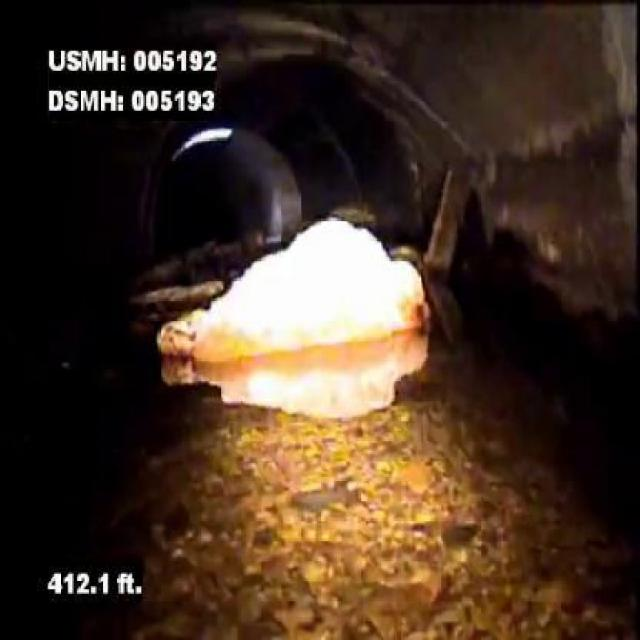Crack: (499, 95, 623, 171)
Obstacle: (154, 213, 434, 364)
